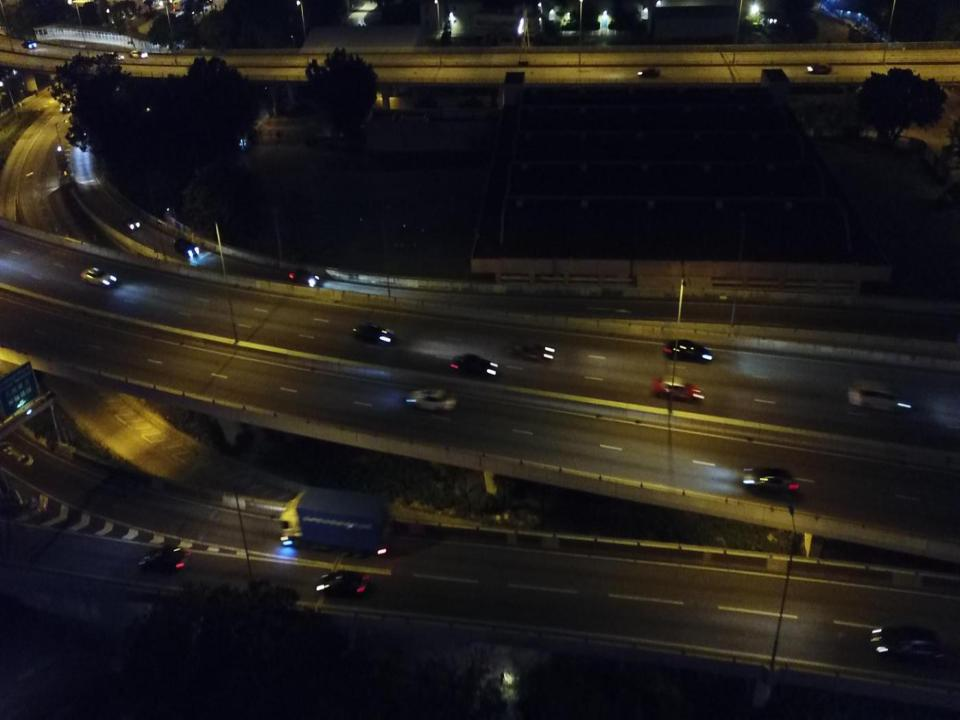car: (869, 628, 947, 665), (742, 465, 798, 494), (316, 570, 370, 600), (651, 377, 705, 405), (404, 386, 456, 415), (449, 354, 499, 378), (665, 340, 713, 364), (139, 546, 187, 568), (80, 264, 117, 287), (514, 340, 554, 360), (353, 324, 396, 342), (288, 269, 320, 286), (174, 236, 200, 256), (637, 66, 662, 78), (808, 63, 832, 74), (122, 215, 138, 229), (59, 95, 70, 111), (21, 40, 37, 48), (106, 51, 122, 59), (131, 52, 146, 58)
truck: (278, 489, 393, 552)
van: (848, 383, 906, 414)
